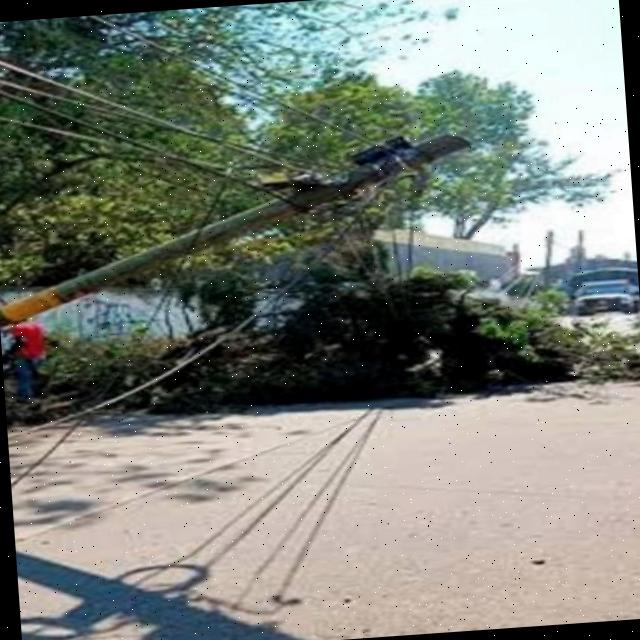Broken Pole: (3, 132, 481, 326)
